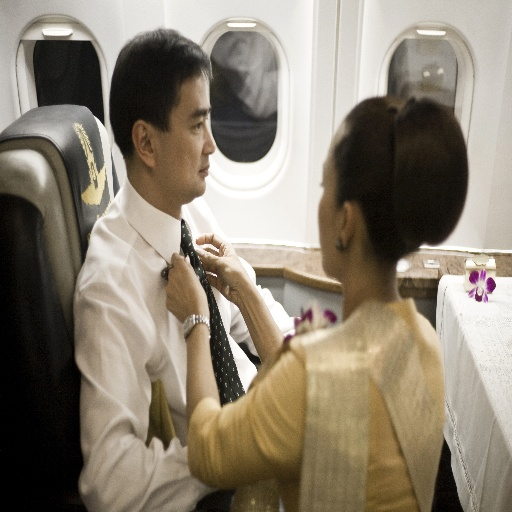hand: (192, 234, 269, 339), (165, 252, 208, 323)
